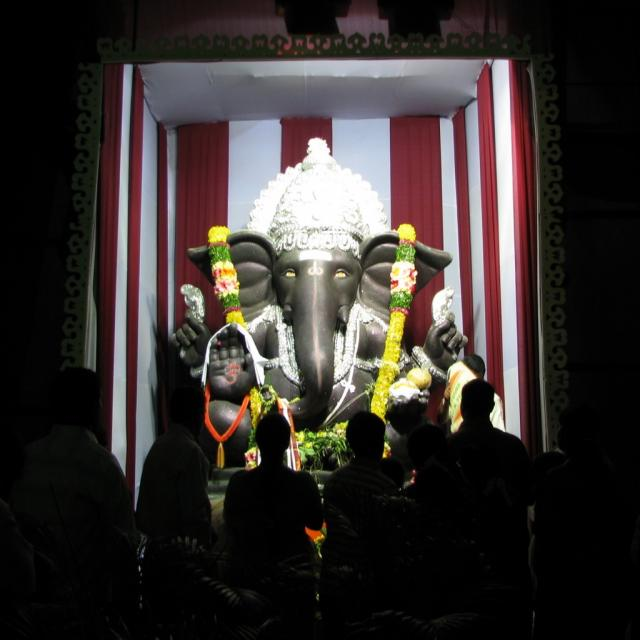elephant: (186, 166, 476, 467)
